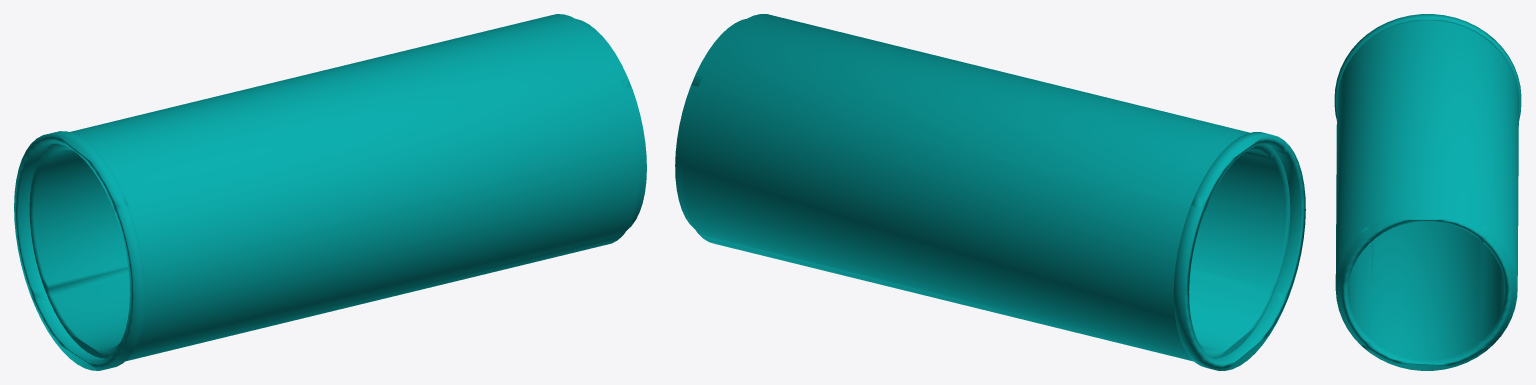
File: pipe.fbx
3 renders of one model, left to right at view 1: azimuth 30°, elevation 25°; view 2: azimuth 150°, elevation 25°; view 3: azimuth 270°, elevation 25°, orthographic. The views are drawn at different scales.
Parts seen in each view (by area): view 1: Pipe; view 2: Pipe; view 3: Pipe.
Boxes of the visible parts, x1,y1,x2,y2 form: Pipe: (14, 14, 646, 370); Pipe: (675, 14, 1305, 370); Pipe: (1334, 14, 1521, 370).
Bounding box in the file's own units: 135 × 54.84 × 54.9.
